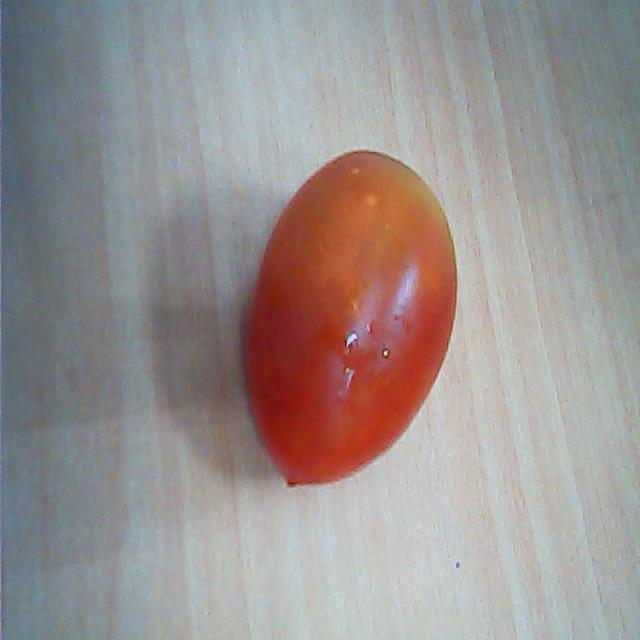verde: (241, 147, 460, 490)
